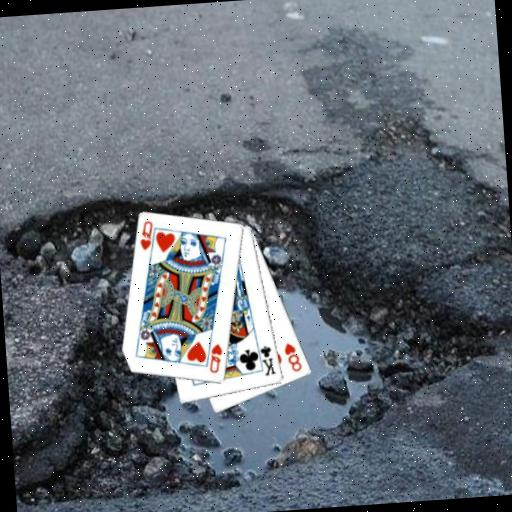8H: (280, 339, 304, 374)
KC: (253, 340, 277, 378)
QH: (136, 218, 160, 258), (205, 341, 226, 376)
